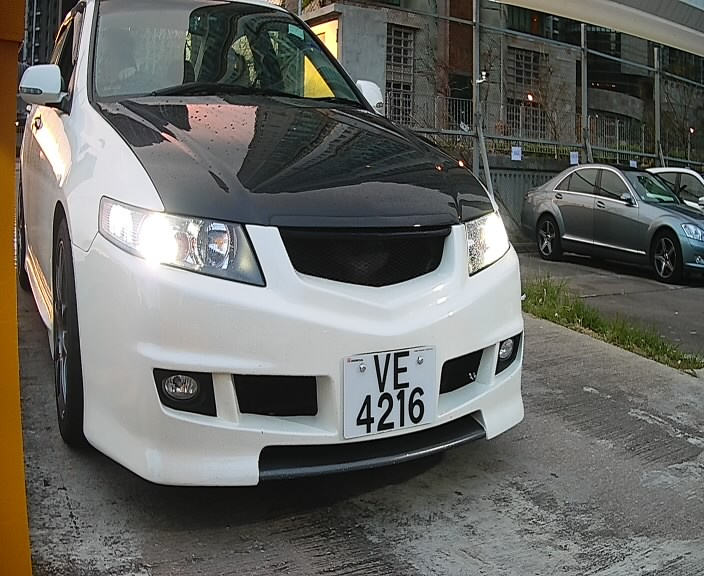Car: (27, 13, 549, 522)
License Plate: (333, 339, 449, 449)
